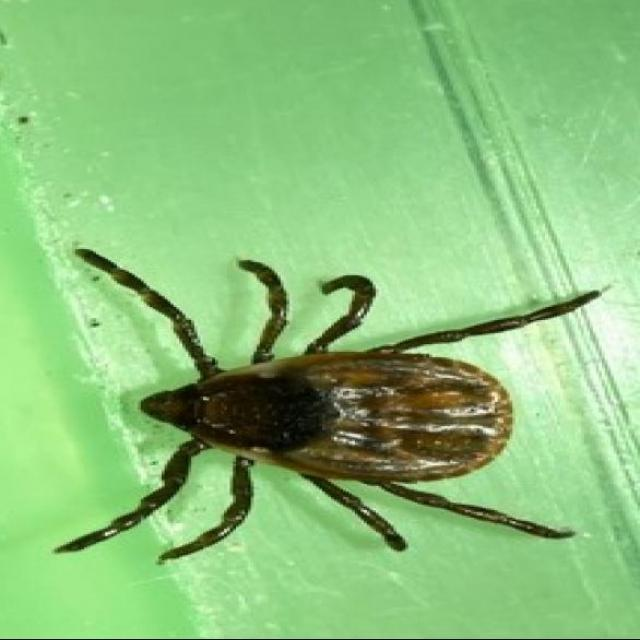Rhipicephalus Sanguineus-F: (57, 250, 596, 563)
